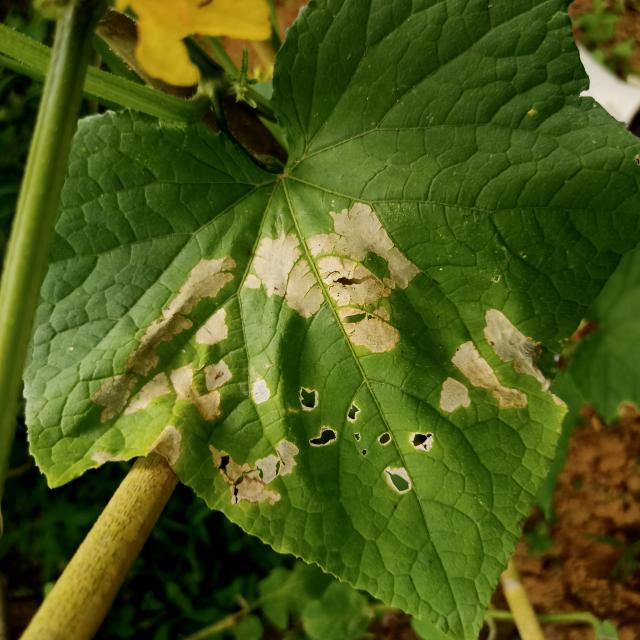disease_cucumber: (89, 202, 566, 503)
